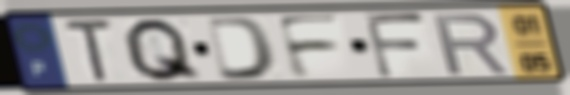D: (203, 15, 280, 82)
F: (360, 10, 430, 80), (272, 13, 344, 81)
Q: (120, 16, 207, 84)
R: (429, 12, 513, 78)
T: (61, 18, 117, 85)
